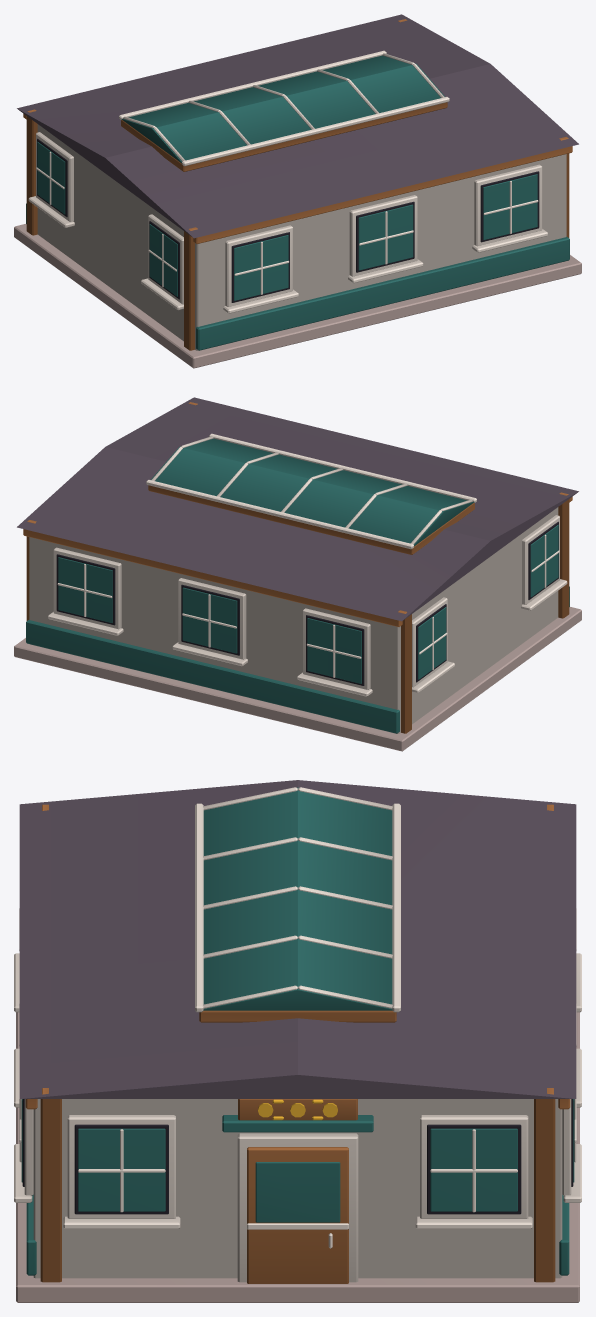
The model's file is bld.reptile-house.glb.
The picture shows the model from 3 angles, top to bottom: view 1: azimuth 30°, elevation 25°; view 2: azimuth 150°, elevation 25°; view 3: azimuth 270°, elevation 25°; orthographic projection. The views are drawn at different scales.
Parts seen in each view (by area): view 1: body, roof; view 2: body, roof; view 3: body, roof.
Boxes of the visible parts, bbox=[...] form: body: bbox=[14, 19, 581, 368]; roof: bbox=[17, 14, 578, 238]; body: bbox=[14, 402, 581, 751]; roof: bbox=[17, 397, 578, 621]; body: bbox=[14, 787, 581, 1302]; roof: bbox=[19, 780, 576, 1098].
Bounding box in the file's own units: 10.06 × 4.03 × 8.06.
